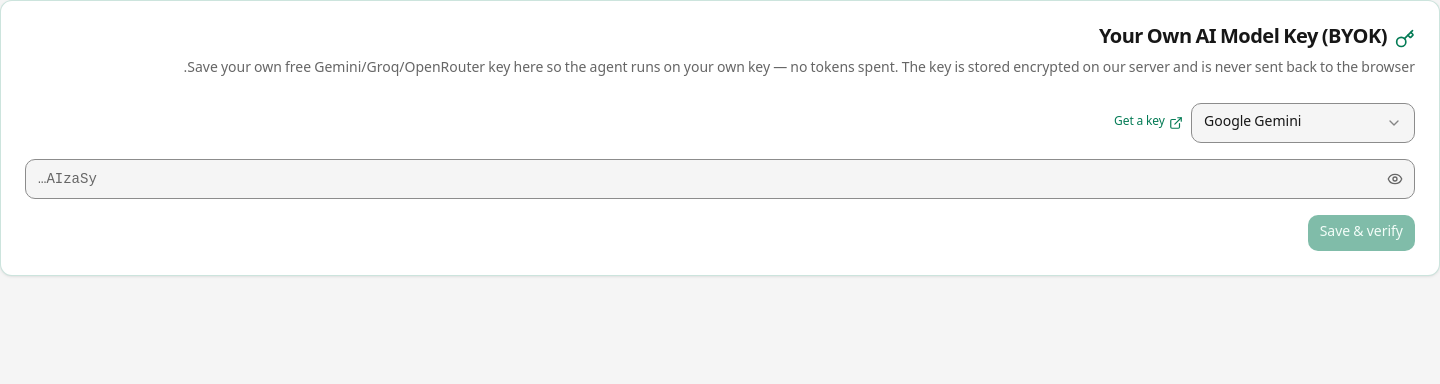
Test: WebByokKeyPanel › tests a key before saving it, and never saves an unverified one
This screenshot has width=1440, height=384.
Type "AIzaSyBadKey0000000000000000000000" into the password field with placeholder "AIzaSy…" at [720, 179], box [25,159,1415,199]
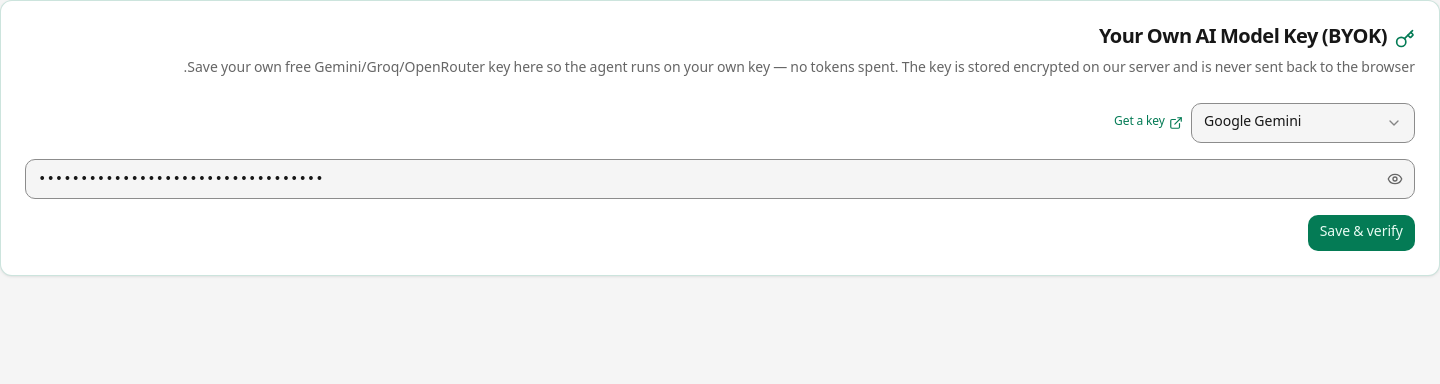
Click the button "Save & verify" at [1361, 233], box [1308,215,1415,251]
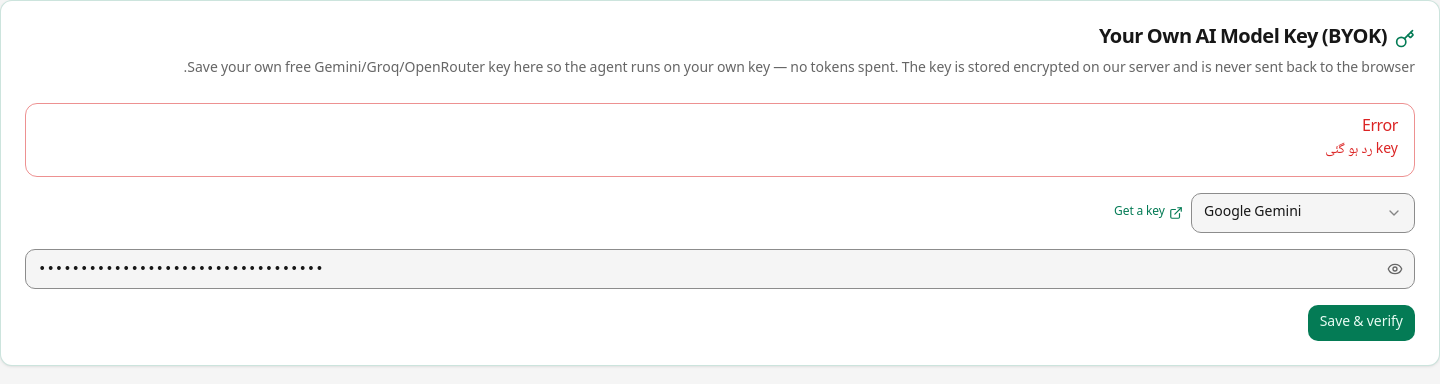
expect the text "key رد ہو گئی" is shown: met, box [1325,138,1398,162]
